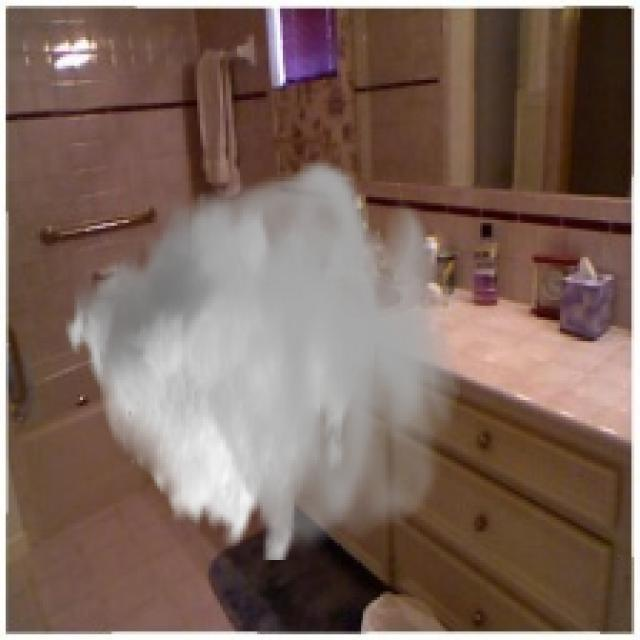Smoke: (63, 155, 460, 560)
